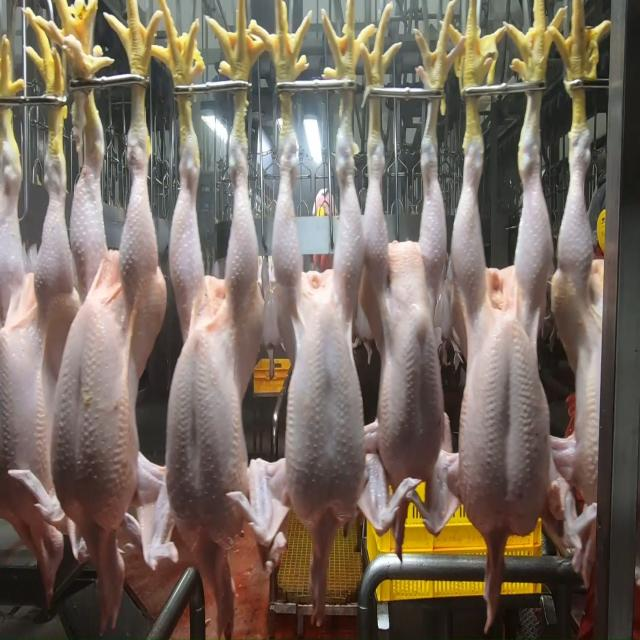chicken: (51, 127, 165, 532), (454, 132, 558, 534), (163, 142, 262, 544), (271, 117, 369, 523), (0, 102, 66, 533), (368, 134, 448, 480), (556, 124, 610, 509)
